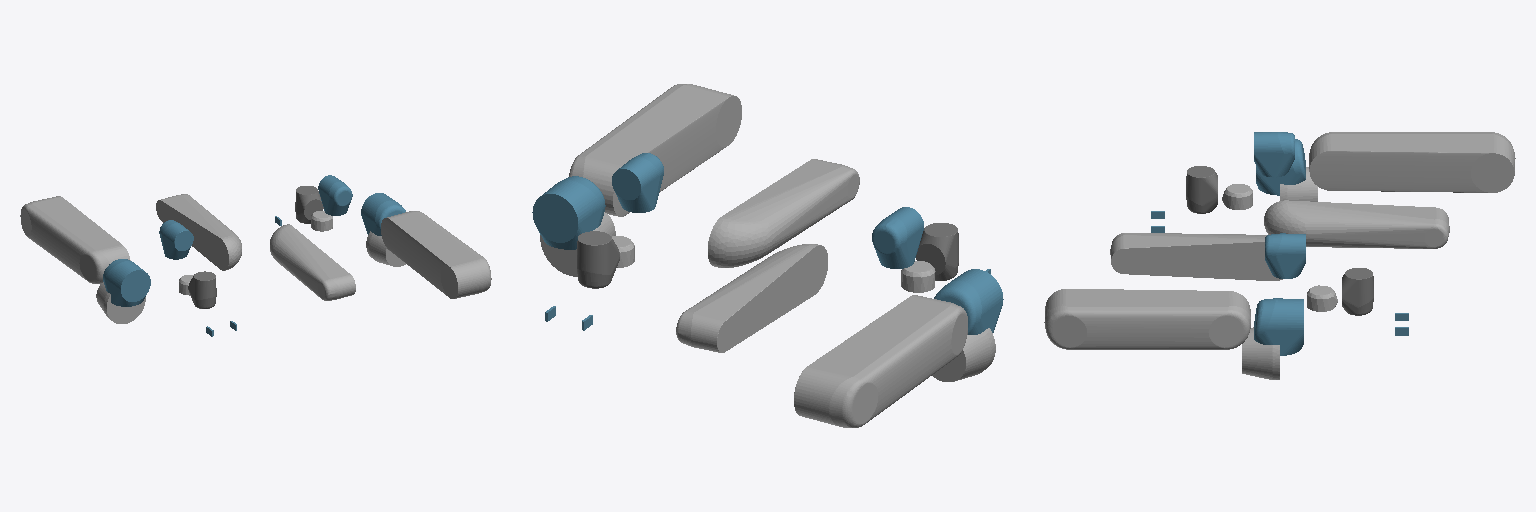
--- Render facts (derived) ---
3 views of the same robot in one strip: view 1: azimuth 30°, elevation 25°; view 2: azimuth 150°, elevation 25°; view 3: azimuth 270°, elevation 25° (orthographic).
Robot: dual_ur5_robot — 39 links, 38 joints (24 revolute, 14 fixed); root link base_fixture_link; default pose: every joint at zero.
Visible links, largest first — view 1: upper_arm_link_0, upper_arm_link_1, forearm_link_0, forearm_link_1, shoulder_link_1, shoulder_link_0, wrist_1_link_1, wrist_1_link_0, wrist_2_link_0, base_link_1, wrist_2_link_1, base_link_0; view 2: upper_arm_link_1, upper_arm_link_0, forearm_link_0, forearm_link_1, shoulder_link_0, shoulder_link_1, wrist_1_link_0, wrist_1_link_1, wrist_2_link_1, wrist_2_link_0, base_link_1, base_link_0 (+1 smaller); view 3: upper_arm_link_0, upper_arm_link_1, forearm_link_1, forearm_link_0, shoulder_link_0, wrist_1_link_0, wrist_1_link_1, wrist_2_link_0, wrist_2_link_1, base_link_0, shoulder_link_1, base_link_1 (+2 smaller).
Link boxes in pixels (box(x1,y1,x2,y2)): upper_arm_link_0: box(381, 211, 491, 298); upper_arm_link_1: box(20, 196, 130, 283); forearm_link_0: box(270, 224, 355, 300); forearm_link_1: box(156, 194, 241, 270); shoulder_link_1: box(103, 259, 150, 306); shoulder_link_0: box(361, 193, 405, 235); wrist_1_link_1: box(318, 175, 352, 215); wrist_1_link_0: box(159, 220, 193, 259); wrist_2_link_0: box(188, 271, 216, 308); base_link_1: box(96, 282, 145, 323); wrist_2_link_1: box(295, 186, 323, 223); base_link_0: box(366, 231, 405, 266); upper_arm_link_1: box(794, 295, 967, 427); upper_arm_link_0: box(569, 84, 741, 216); forearm_link_0: box(708, 159, 859, 267); forearm_link_1: box(676, 244, 827, 352); shoulder_link_0: box(532, 176, 605, 249); shoulder_link_1: box(934, 269, 1003, 334); wrist_1_link_0: box(872, 207, 923, 268); wrist_1_link_1: box(612, 153, 663, 212); wrist_2_link_1: box(577, 231, 619, 288); wrist_2_link_0: box(916, 223, 958, 280); base_link_1: box(932, 328, 995, 381); base_link_0: box(540, 212, 615, 276); upper_arm_link_0: box(1044, 289, 1250, 349); upper_arm_link_1: box(1309, 132, 1515, 192); forearm_link_1: box(1264, 200, 1449, 248); forearm_link_0: box(1110, 233, 1282, 280); shoulder_link_0: box(1254, 298, 1303, 355); wrist_1_link_0: box(1254, 132, 1294, 177); wrist_1_link_1: box(1265, 233, 1305, 278); wrist_2_link_0: box(1186, 166, 1217, 213); wrist_2_link_1: box(1342, 268, 1373, 315); base_link_0: box(1242, 327, 1279, 379); shoulder_link_1: box(1256, 139, 1305, 195); base_link_1: box(1280, 167, 1317, 201).
Bounding box of the posed robot: 1.15 × 1.24 × 0.3303 m (x, y, z).
Meshes: 12 distinct files referenced, 14 mesh visuals loaded (7 OBJ); not drawn: 18 (reference not matched to a file when rendering).

The robot description file, URDF, robot "dual_ur5_robot":
<?xml version="1.0" ?>
<!-- =================================================================================== -->
<!-- |    This document was autogenerated by xacro from ur_description/urdf/ur10e.xacro | -->
<!-- |    EDITING THIS FILE BY HAND IS NOT RECOMMENDED                                 | -->
<!-- =================================================================================== -->
<robot name="dual_ur5_robot">

  <!--################################################
  ########            shared base              #######
  ####################################################-->

  <link name="base_fixture_link"/>

  <!--################################################
  ########              arm 0                  #######
  ####################################################-->

  <link name="base_link_0">
    <visual>
      <geometry>
        <mesh filename="../ur5/meshes/visual/base.obj"/>
      </geometry>
      <material name="LightGrey">
        <color rgba="0.7 0.7 0.7 1.0"/>
      </material>
    </visual>
    <collision>
      <geometry>
        <mesh filename="../ur5/meshes/collision/base.stl"/>
      </geometry>
    </collision>
    <inertial>
      <mass value="4.0"/>
      <origin rpy="0 0 0" xyz="0.0 0.0 0.0"/>
      <inertia ixx="0.00443333156" ixy="0.0" ixz="0.0" iyy="0.00443333156" iyz="0.0" izz="0.0072"/>
    </inertial>
  </link>

  <joint name="shoulder_pan_joint_0" type="revolute">
    <parent link="base_link_0"/>
    <child link="shoulder_link_0"/>
    <origin rpy="0.0 0.0 0.0" xyz="0.0 0.0 0.089159"/>
    <axis xyz="0 0 1"/>
    <limit effort="150.0" lower="-3.14159265359" upper="3.14159265359" velocity="3.15"/>
    <dynamics damping="0.1" friction="0.0"/>
  </joint>
  <link name="shoulder_link_0">
    <visual>
      <geometry>
        <mesh filename="../ur5/meshes/visual/shoulder.obj"/>
      </geometry>
      <material name="UR-Blue">
        <color rgba="0.376 0.576 0.674 1.0"/>
      </material>
    </visual>
    <collision>
      <geometry>
        <mesh filename="../ur5/meshes/collision/shoulder.stl"/>
      </geometry>
    </collision>
    <inertial>
      <mass value="3.7"/>
      <origin rpy="0 0 0" xyz="0.0 0.0 0.0"/>
      <inertia ixx="0.010267495893" ixy="0.0" ixz="0.0" iyy="0.010267495893" iyz="0.0" izz="0.00666"/>
    </inertial>
  </link>
  <joint name="shoulder_lift_joint_0" type="revolute">
    <parent link="shoulder_link_0"/>
    <child link="upper_arm_link_0"/>
    <origin rpy="0.0 1.57079632679 0.0" xyz="0.0 0.13585 0.0"/>
    <axis xyz="0 1 0"/>
    <limit effort="150.0" lower="-3.14159265359" upper="3.14159265359" velocity="3.15"/>
    <dynamics damping="0.1" friction="0.0"/>
  </joint>
  <link name="upper_arm_link_0">
    <visual>
      <geometry>
        <mesh filename="../ur5/meshes/visual/upperarm.obj"/>
      </geometry>
      <material name="LightGrey">
        <color rgba="0.7 0.7 0.7 1.0"/>
      </material>
    </visual>
    <collision>
      <geometry>
        <mesh filename="../ur5/meshes/collision/upperarm.stl"/>
      </geometry>
    </collision>
    <inertial>
      <mass value="8.393"/>
      <origin rpy="0 0 0" xyz="0.0 0.0 0.28"/>
      <inertia ixx="0.22689067591" ixy="0.0" ixz="0.0" iyy="0.22689067591" iyz="0.0" izz="0.0151074"/>
    </inertial>
  </link>
  <joint name="elbow_joint_0" type="revolute">
    <parent link="upper_arm_link_0"/>
    <child link="forearm_link_0"/>
    <origin rpy="0.0 0.0 0.0" xyz="0.0 -0.1197 0.425"/>
    <axis xyz="0 1 0"/>
    <limit effort="150.0" lower="-3.14159265359" upper="3.14159265359" velocity="3.15"/>
    <dynamics damping="0.1" friction="0.0"/>
  </joint>
  <link name="forearm_link_0">
    <visual>
      <geometry>
        <mesh filename="../ur5/meshes/visual/forearm.obj"/>
      </geometry>
      <material name="LightGrey">
        <color rgba="0.7 0.7 0.7 1.0"/>
      </material>
    </visual>
    <collision>
      <geometry>
        <mesh filename="../ur5/meshes/collision/forearm.stl"/>
      </geometry>
    </collision>
    <inertial>
      <mass value="2.275"/>
      <origin rpy="0 0 0" xyz="0.0 0.0 0.25"/>
      <inertia ixx="0.049443313556" ixy="0.0" ixz="0.0" iyy="0.049443313556" iyz="0.0" izz="0.004095"/>
    </inertial>
  </link>
  <joint name="wrist_1_joint_0" type="revolute">
    <parent link="forearm_link_0"/>
    <child link="wrist_1_link_0"/>
    <origin rpy="0.0 1.57079632679 0.0" xyz="0.0 0.0 0.39225"/>
    <axis xyz="0 1 0"/>
    <limit effort="28.0" lower="-3.14159265359" upper="3.14159265359" velocity="3.2"/>
    <dynamics damping="0.1" friction="0.0"/>
  </joint>
  <link name="wrist_1_link_0">
    <visual>
      <geometry>
        <mesh filename="../ur5/meshes/visual/wrist1.obj"/>
      </geometry>
      <material name="UR-Blue">
        <color rgba="0.376 0.576 0.674 1.0"/>
      </material>
    </visual>
    <collision>
      <geometry>
        <mesh filename="../ur5/meshes/collision/wrist1.stl"/>
      </geometry>
    </collision>
    <inertial>
      <mass value="1.219"/>
      <origin rpy="0 0 0" xyz="0.0 0.0 0.0"/>
      <inertia ixx="0.111172755531" ixy="0.0" ixz="0.0" iyy="0.111172755531" iyz="0.0" izz="0.21942"/>
    </inertial>
  </link>
  <joint name="wrist_2_joint_0" type="revolute">
    <parent link="wrist_1_link_0"/>
    <child link="wrist_2_link_0"/>
    <origin rpy="0.0 0.0 0.0" xyz="0.0 0.093 0.0"/>
    <axis xyz="0 0 1"/>
    <limit effort="28.0" lower="-3.14159265359" upper="3.14159265359" velocity="3.2"/>
    <dynamics damping="0.1" friction="0.0"/>
  </joint>
  <link name="wrist_2_link_0">
    <visual>
      <geometry>
        <mesh filename="../ur5/meshes/visual/wrist2.obj"/>
      </geometry>
      <material name="DarkGray">
        <color rgba="0.5 0.5 0.5 1.0"/>
      </material>
    </visual>
    <collision>
      <geometry>
        <mesh filename="../ur5/meshes/collision/wrist2.stl"/>
      </geometry>
    </collision>
    <inertial>
      <mass value="1.219"/>
      <origin rpy="0 0 0" xyz="0.0 0.0 0.0"/>
      <inertia ixx="0.111172755531" ixy="0.0" ixz="0.0" iyy="0.111172755531" iyz="0.0" izz="0.21942"/>
    </inertial>
  </link>
  <joint name="wrist_3_joint_0" type="revolute">
    <parent link="wrist_2_link_0"/>
    <child link="wrist_3_link_0"/>
    <origin rpy="0.0 0.0 0.0" xyz="0.0 0.0 0.09465"/>
    <axis xyz="0 1 0"/>
    <limit effort="28.0" lower="-6.28318530718" upper="6.28318530718" velocity="3.2"/>
    <dynamics damping="0.1" friction="0.0"/>
  </joint>
  <link name="wrist_3_link_0">
    <visual>
      <geometry>
        <mesh filename="../ur5/meshes/visual/wrist3.obj"/>
      </geometry>
      <material name="LightGrey">
        <color rgba="0.7 0.7 0.7 1.0"/>
      </material>
    </visual>
    <collision>
      <geometry>
        <mesh filename="../ur5/meshes/collision/wrist3.stl"/>
      </geometry>
    </collision>
    <inertial>
      <mass value="0.1879"/>
      <origin rpy="0 0 0" xyz="0.0 0.0 0.0"/>
      <inertia ixx="0.0171364731454" ixy="0.0" ixz="0.0" iyy="0.0171364731454" iyz="0.0" izz="0.033822"/>
    </inertial>
  </link>
  <joint name="ee_fixed_joint_0" type="fixed">
    <parent link="wrist_3_link_0"/>
    <child link="ee_link_0"/>
    <origin rpy="0.0 0.0 1.57079632679" xyz="0.0 0.0823 0.0"/>
    <dynamics damping="0.1" friction="0.0"/>
  </joint>
  <link name="ee_link_0">
    <collision>
      <geometry>
        <box size="0.01 0.01 0.01"/>
      </geometry>
      <origin rpy="0 0 0" xyz="-0.01 0 0"/>
    </collision>
  </link>

  <!--################################################
  ########             gripper 0                 #####
  ####################################################-->

  <link name="robotiq_arg2f_base_link_0">
    <inertial>
      <origin rpy="0 0 0" xyz="8.625E-08 -4.6583E-06 0.03145"/>
      <mass value="0.22652"/>
      <inertia ixx="0.00020005" ixy="-4.2442E-10" ixz="-2.9069E-10" iyy="0.00017832" iyz="-3.4402E-08" izz="0.00013478"/>
    </inertial>
    <visual>
      <origin rpy="0 0 0" xyz="0 0 0"/>
      <geometry>
        <mesh filename="../robotiq_85/meshes/visual/robotiq_arg2f_85_base_link.dae" scale="0.001 0.001 0.001"/>
      </geometry>
      <material name="LightGrey">
        <color rgba="0.7 0.7 0.7 1.0"/>
      </material>
    </visual>
    <collision>
      <origin rpy="0 0 0" xyz="0 0 0"/>
      <geometry>
        <mesh filename="../robotiq_85/meshes/collision/robotiq_arg2f_base_link.stl"/>
      </geometry>
    </collision>
  </link>
  <joint name="finger_joint_0" type="revolute">
    <origin rpy="0 0 3.14159265359" xyz="0 -0.0306011 0.054904"/>
    <parent link="robotiq_arg2f_base_link_0"/>
    <child link="left_outer_knuckle_0"/>
    <axis xyz="1 0 0"/>
    <limit effort="1000" lower="0" upper="0.8" velocity="2.0"/>
    <dynamics damping="0.1" friction="0.0"/>
  </joint>
  <link name="left_outer_knuckle_0">
    <inertial>
        <origin xyz="-0.000200000000003065 0.0199435877845359 0.0292245259211331" rpy="0 0 0" />
        <mass value="0.00853198276973456" />
        <inertia ixx="2.89328108496468E-06" ixy="-1.57935047237397E-19" ixz="-1.93980378593255E-19" iyy="1.86719750325683E-06" iyz="-1.21858577871576E-06" izz="1.21905238907251E-06" />
        </inertial>
    <visual>
      <origin rpy="0 0 0" xyz="0 0 0"/>
      <geometry>
        <mesh filename="../robotiq_85/meshes/visual/robotiq_arg2f_85_outer_knuckle.dae" scale="0.001 0.001 0.001"/>
      </geometry>
      <material name="">
        <color rgba="1 1 0 1"/>
      </material>
    </visual>
    <collision>
      <origin rpy="0 0 0" xyz="0 0 0"/>
      <geometry>
        <mesh filename="../robotiq_85/meshes/collision/robotiq_arg2f_85_outer_knuckle.dae" scale="0.001 0.001 0.001"/>
      </geometry>
    </collision>
  </link>
  <joint name="left_outer_finger_joint_0" type="fixed">
    <origin rpy="0 0 0" xyz="0 0.0315 -0.0041"/>
    <parent link="left_outer_knuckle_0"/>
    <child link="left_outer_finger_0"/>
    <axis xyz="1 0 0"/>
    <dynamics damping="0.1" friction="0.0"/>
  </joint>
  <link name="left_outer_finger_0">
    <inertial>
        <origin xyz="0.00030115855001899 0.0373907951953854 -0.0208027427000385" rpy="0 0 0" />
        <mass value="0.022614240507152" />
        <inertia ixx="1.52518312458174E-05" ixy="9.76583423954399E-10" ixz="-5.43838577022588E-10" iyy="6.17694243867776E-06" iyz="6.78636130740228E-06" izz="1.16494917907219E-05" />
        </inertial>
    <visual>
      <origin rpy="0 0 0" xyz="0 0 0"/>
      <geometry>
        <mesh filename="../robotiq_85/meshes/visual/robotiq_arg2f_85_outer_finger.dae" scale="0.001 0.001 0.001"/>
      </geometry>
      <material name="LightGrey">
        <color rgba="0 1 1 1.0"/>
      </material>
    </visual>
    <collision>
      <origin rpy="0 0 0" xyz="0 0 0"/>
      <geometry>
        <mesh filename="../robotiq_85/meshes/collision/robotiq_arg2f_85_outer_finger.dae" scale="0.001 0.001 0.001"/>
      </geometry>
    </collision>
  </link>
  <joint name="left_inner_finger_joint_0" type="revolute">
    <origin rpy="0 0 0" xyz="0 0.0061 0.0471"/>
    <parent link="left_outer_finger_0"/>
    <child link="left_inner_finger_0"/>
    <axis xyz="1 0 0"/>
    <limit effort="1000" lower="-0.8757" upper="0" velocity="2.0"/>
    <mimic joint="finger_joint_0" multiplier="-1" offset="0"/>
    <dynamics damping="0.1" friction="0.0"/>
  </joint>
  <link name="left_inner_finger_0">
    <inertial>
        <origin xyz="0.000299999999999317 0.0160078233491243 -0.0136945669206257" rpy="0 0 0" />
        <mass value="0.0104003125914103" />
        <inertia ixx="2.71909453810972E-06" ixy="1.35402465472579E-21" ixz="-7.1817349065269E-22" iyy="7.69100314106116E-07" iyz="6.74715432769696E-07" izz="2.30315190420171E-06" />
        </inertial>
    <visual>
      <origin rpy="0 0 0" xyz="0 0 0"/>
      <geometry>
        <mesh filename="../robotiq_85/meshes/visual/robotiq_arg2f_85_inner_finger.dae" scale="0.001 0.001 0.001"/>
      </geometry>
      <material name="LightGrey">
        <color rgba="1 0 1 1.0"/>
      </material>
    </visual>
    <collision>
      <origin rpy="0 0 0" xyz="0 0 0"/>
      <geometry>
        <mesh filename="../robotiq_85/meshes/collision/robotiq_arg2f_85_inner_finger.dae" scale="0.001 0.001 0.001"/>
      </geometry>
    </collision>
  </link>
  <joint name="left_inner_finger_pad_joint_0" type="fixed">
    <origin rpy="0 0 0" xyz="0 -0.0220203446692936 0.03242"/>
    <parent link="left_inner_finger_0"/>
    <child link="left_inner_finger_pad_0"/>
    <axis xyz="0 0 1"/>
    <dynamics damping="0.1" friction="0.0"/>
  </joint>
  <link name="left_inner_finger_pad_0">
    <inertial>
      <mass value="1."/>
      <inertia ixx="1E-10" ixy="1E-10" ixz="1E-10" iyy="1E-10" iyz="1E-10" izz="1E-10"/>
    </inertial>
    <contact>
      <friction_anchor/>
      <stiffness value="30000.0"/>
      <damping value="1000.0"/>
      <spinning_friction value="0.1"/>
      <lateral_friction value="1.0"/>
    </contact>
    <visual>
      <origin rpy="0 0 0" xyz="0 0 0"/>
      <geometry>
        <box size="0.022 0.00635 0.0375"/>
      </geometry>
      <material name="UR-Blue">
        <color rgba="0.376 0.576 0.674 1.0"/>
      </material>
    </visual>
    <collision>
      <origin rpy="0 0 0" xyz="0 0 0"/>
      <geometry>
        <box size="0.022 0.00635 0.0375"/>
      </geometry>
      <material name="">
        <color rgba="0.9 0.0 0.0 1"/>
      </material>
    </collision>
  </link>
  <joint name="left_inner_knuckle_joint_0" type="revolute">
    <!-- <origin xyz="0 ${reflect * -0.0127} 0.06142" rpy="${pi / 2 + .725} 0 ${(reflect - 1) * pi / 2}" /> -->
    <origin rpy="0 0 3.14159265359" xyz="0 -0.0127 0.06142"/>
    <parent link="robotiq_arg2f_base_link_0"/>
    <child link="left_inner_knuckle_0"/>
    <axis xyz="1 0 0"/>
    <limit effort="1000" lower="0" upper="0.8757" velocity="2.0"/>
    <mimic joint="finger_joint_0" multiplier="1" offset="0"/>
    <dynamics damping="0.1" friction="0.0"/>
  </joint>
  <link name="left_inner_knuckle_0">
    <inertial>
        <origin xyz="0.000123011831763771 0.0507850843201817 0.00103968640075166" rpy="0 0 0" />
       <mass value="0.0271177346495152" />
        <inertia ixx="2.61910379223783E-05" ixy="-2.43616858946494E-07" ixz="-6.37789906117123E-09" iyy="2.8270243746167E-06" iyz="-5.37200748039765E-07" izz="2.83695868220296E-05" />
        </inertial>
    <visual>
      <origin rpy="0 0 0" xyz="0 0 0"/>
      <geometry>
        <mesh filename="../robotiq_85/meshes/visual/robotiq_arg2f_85_inner_knuckle.dae" scale="0.001 0.001 0.001"/>
      </geometry>
      <material name="LightGrey">
        <color rgba="0 0 1 1.0"/>
      </material>
    </visual>
    <collision>
      <origin rpy="0 0 0" xyz="0 0 0"/>
      <geometry>
        <mesh filename="../robotiq_85/meshes/collision/robotiq_arg2f_85_inner_knuckle.dae" scale="0.001 0.001 0.001"/>
      </geometry>
    </collision>
  </link>
  <joint name="right_outer_knuckle_joint_0" type="revolute">
    <origin rpy="0 0 0" xyz="0 0.0306011 0.054904"/>
    <parent link="robotiq_arg2f_base_link_0"/>
    <child link="right_outer_knuckle_0"/>
    <axis xyz="1 0 0"/>
    <limit effort="1000" lower="0" upper="0.81" velocity="2.0"/>
    <mimic joint="finger_joint_0" multiplier="1" offset="0"/>
    <dynamics damping="0.1" friction="0.0"/>
  </joint>
  <link name="right_outer_knuckle_0">
    <inertial>
        <origin xyz="-0.000200000000003065 0.0199435877845359 0.0292245259211331" rpy="0 0 0" />
        <mass value="0.00853198276973456" />
        <inertia ixx="2.89328108496468E-06" ixy="-1.57935047237397E-19" ixz="-1.93980378593255E-19" iyy="1.86719750325683E-06" iyz="-1.21858577871576E-06" izz="1.21905238907251E-06" />
        </inertial>
    <visual>
      <origin rpy="0 0 0" xyz="0 0 0"/>
      <geometry>
        <mesh filename="../robotiq_85/meshes/visual/robotiq_arg2f_85_outer_knuckle.dae" scale="0.001 0.001 0.001"/>
      </geometry>
      <material name="">
        <color rgba="0.792156862745098 0.819607843137255 0.933333333333333 1"/>
      </material>
    </visual>
    <collision>
      <origin rpy="0 0 0" xyz="0 0 0"/>
      <geometry>
        <mesh filename="../robotiq_85/meshes/collision/robotiq_arg2f_85_outer_knuckle.dae" scale="0.001 0.001 0.001"/>
      </geometry>
    </collision>
  </link>
  <joint name="right_outer_finger_joint_0" type="fixed">
    <origin rpy="0 0 0" xyz="0 0.0315 -0.0041"/>
    <parent link="right_outer_knuckle_0"/>
    <child link="right_outer_finger_0"/>
    <axis xyz="1 0 0"/>
    <dynamics damping="0.1" friction="0.0"/>
  </joint>
  <link name="right_outer_finger_0">
    <inertial>
        <origin xyz="0.00030115855001899 0.0373907951953854 -0.0208027427000385" rpy="0 0 0" />
        <mass value="0.022614240507152" />
        <inertia ixx="1.52518312458174E-05" ixy="9.76583423954399E-10" ixz="-5.43838577022588E-10" iyy="6.17694243867776E-06" iyz="6.78636130740228E-06" izz="1.16494917907219E-05" />
        </inertial>
    <visual>
      <origin rpy="0 0 0" xyz="0 0 0"/>
      <geometry>
        <mesh filename="../robotiq_85/meshes/visual/robotiq_arg2f_85_outer_finger.dae" scale="0.001 0.001 0.001"/>
      </geometry>
      <material name="LightGrey">
        <color rgba="0.7 0.7 0.7 1.0"/>
      </material>
    </visual>
    <collision>
      <origin rpy="0 0 0" xyz="0 0 0"/>
      <geometry>
        <mesh filename="../robotiq_85/meshes/collision/robotiq_arg2f_85_outer_finger.dae" scale="0.001 0.001 0.001"/>
      </geometry>
    </collision>
  </link>
  <joint name="right_inner_finger_joint_0" type="revolute">
    <origin rpy="0 0 0" xyz="0 0.0061 0.0471"/>
    <parent link="right_outer_finger_0"/>
    <child link="right_inner_finger_0"/>
    <axis xyz="1 0 0"/>
    <limit effort="1000" lower="-0.8757" upper="0" velocity="2.0"/>
    <mimic joint="finger_joint_0" multiplier="-1" offset="0"/>
    <dynamics damping="0.1" friction="0.0"/>
  </joint>
  <link name="right_inner_finger_0">
    <inertial>
        <origin xyz="0.000299999999999317 0.0160078233491243 -0.0136945669206257" rpy="0 0 0" />
        <mass value="0.0104003125914103" />
        <inertia ixx="2.71909453810972E-06" ixy="1.35402465472579E-21" ixz="-7.1817349065269E-22" iyy="7.69100314106116E-07" iyz="6.74715432769696E-07" izz="2.30315190420171E-06" />
        </inertial>
    <visual>
      <origin rpy="0 0 0" xyz="0 0 0"/>
      <geometry>
        <mesh filename="../robotiq_85/meshes/visual/robotiq_arg2f_85_inner_finger.dae" scale="0.001 0.001 0.001"/>
      </geometry>
      <material name="">
        <color rgba="0.1 0.1 0.1 1"/>
      </material>
    </visual>
    <collision>
      <origin rpy="0 0 0" xyz="0 0 0"/>
      <geometry>
        <mesh filename="../robotiq_85/meshes/collision/robotiq_arg2f_85_inner_finger.dae" scale="0.001 0.001 0.001"/>
      </geometry>
    </collision>
  </link>
  <joint name="right_inner_finger_pad_joint_0" type="fixed">
    <origin rpy="0 0 0" xyz="0 -0.0220203446692936 0.03242"/>
    <parent link="right_inner_finger_0"/>
    <child link="right_inner_finger_pad_0"/>
    <axis xyz="0 0 1"/>
    <dynamics damping="0.1" friction="0.0"/>
  </joint>
  <link name="right_inner_finger_pad_0">
    <inertial>
      <mass value="1"/>
      <inertia ixx="1E-10" ixy="1E-10" ixz="1E-10" iyy="1E-10" iyz="1E-10" izz="1E-10"/>
    </inertial>
    <contact>
      <friction_anchor/>
      <stiffness value="30000.0"/>
      <damping value="1000.0"/>
      <spinning_friction value="0.1"/>
      <lateral_friction value="1.0"/>
    </contact>
    <visual>
      <origin rpy="0 0 0" xyz="0 0 0"/>
      <geometry>
        <box size="0.022 0.00635 0.0375"/>
      </geometry>
      <material name="UR-Blue">
        <color rgba="0.376 0.576 0.674 1.0"/>
      </material>
    </visual>
    <collision>
      <origin rpy="0 0 0" xyz="0 0 0"/>
      <geometry>
        <box size="0.022 0.00635 0.0375"/>
      </geometry>
      <material name="LightGrey">
        <color rgba="0.7 0.7 0.7 1.0"/>
      </material>
    </collision>
  </link>
  <joint name="right_inner_knuckle_joint_0" type="revolute">
    <!-- <origin xyz="0 ${reflect * -0.0127} 0.06142" rpy="${pi / 2 + .725} 0 ${(reflect - 1) * pi / 2}" /> -->
    <origin rpy="0 0 0.0" xyz="0 0.0127 0.06142"/>
    <parent link="robotiq_arg2f_base_link_0"/>
    <child link="right_inner_knuckle_0"/>
    <axis xyz="1 0 0"/>
    <limit effort="1000" lower="0" upper="0.8757" velocity="2.0"/>
    <mimic joint="finger_joint_0" multiplier="1" offset="0"/>
    <dynamics damping="0.1" friction="0.0"/>
  </joint>
  <link name="right_inner_knuckle_0">
    <inertial>
        <origin xyz="0.000123011831763771 0.0507850843201817 0.00103968640075166" rpy="0 0 0" />
       <mass value="0.0271177346495152" />
        <inertia ixx="2.61910379223783E-05" ixy="-2.43616858946494E-07" ixz="-6.37789906117123E-09" iyy="2.8270243746167E-06" iyz="-5.37200748039765E-07" izz="2.83695868220296E-05" />
        </inertial>
    <visual>
      <origin rpy="0 0 0" xyz="0 0 0"/>
      <geometry>
        <mesh filename="../robotiq_85/meshes/visual/robotiq_arg2f_85_inner_knuckle.dae" scale="0.001 0.001 0.001"/>
      </geometry>
      <material name="LightGrey">
        <color rgba="0.7 0.7 0.7 1.0"/>
      </material>
    </visual>
    <collision>
      <origin rpy="0 0 0" xyz="0 0 0"/>
      <geometry>
        <mesh filename="../robotiq_85/meshes/collision/robotiq_arg2f_85_inner_knuckle.dae" scale="0.001 0.001 0.001"/>
      </geometry>
    </collision>
  </link>

  <!--################################################
  ########          arm0 to gripper0             #####
  ####################################################-->

  <!-- connect gripper to arm -->
  <joint name="robotiq_85_base_joint_0" type="fixed">
    <parent link="ee_link_0"/>
    <child link="robotiq_arg2f_base_link_0"/>
    <origin rpy="0 1.57079632679 0" xyz="0 0 0"/>
  </joint>

  <!--################################################
  ########              arm 1                  #######
  ####################################################-->

  <link name="base_link_1">
    <visual>
      <geometry>
        <mesh filename="../ur5/meshes/visual/base.obj"/>
      </geometry>
      <material name="LightGrey">
        <color rgba="0.7 0.7 0.7 1.0"/>
      </material>
    </visual>
    <collision>
      <geometry>
        <mesh filename="../ur5/meshes/collision/base.stl"/>
      </geometry>
    </collision>
    <inertial>
      <mass value="4.0"/>
      <origin rpy="0 0 0" xyz="0.0 0.0 0.0"/>
      <inertia ixx="0.00443333156" ixy="0.0" ixz="0.0" iyy="0.00443333156" iyz="0.0" izz="0.0072"/>
    </inertial>
  </link>

  <joint name="shoulder_pan_joint_1" type="revolute">
    <parent link="base_link_1"/>
    <child link="shoulder_link_1"/>
    <origin rpy="0.0 0.0 0.0" xyz="0.0 0.0 0.089159"/>
    <axis xyz="0 0 1"/>
    <limit effort="150.0" lower="-3.14159265359" upper="3.14159265359" velocity="3.15"/>
    <dynamics damping="0.1" friction="0.0"/>
  </joint>
  <link name="shoulder_link_1">
    <visual>
      <geometry>
        <mesh filename="../ur5/meshes/visual/shoulder.obj"/>
      </geometry>
      <material name="UR-Blue">
        <color rgba="0.376 0.576 0.674 1.0"/>
      </material>
    </visual>
    <collision>
      <geometry>
        <mesh filename="../ur5/meshes/collision/shoulder.stl"/>
      </geometry>
    </collision>
    <inertial>
      <mass value="3.7"/>
      <origin rpy="0 0 0" xyz="0.0 0.0 0.0"/>
      <inertia ixx="0.010267495893" ixy="0.0" ixz="0.0" iyy="0.010267495893" iyz="0.0" izz="0.00666"/>
    </inertial>
  </link>
  <joint name="shoulder_lift_joint_1" type="revolute">
    <parent link="shoulder_link_1"/>
    <child link="upper_arm_link_1"/>
    <origin rpy="0.0 1.57079632679 0.0" xyz="0.0 0.13585 0.0"/>
    <axis xyz="0 1 0"/>
    <limit effort="150.0" lower="-3.14159265359" upper="3.14159265359" velocity="3.15"/>
    <dynamics damping="0.1" friction="0.0"/>
  </joint>
  <link name="upper_arm_link_1">
    <visual>
      <geometry>
        <mesh filename="../ur5/meshes/visual/upperarm.obj"/>
      </geometry>
      <material name="LightGrey">
        <color rgba="0.7 0.7 0.7 1.0"/>
      </material>
    </visual>
    <collision>
      <geometry>
        <mesh filename="../ur5/meshes/collision/upperarm.stl"/>
      </geometry>
    </collision>
    <inertial>
      <mass value="8.393"/>
      <origin rpy="0 0 0" xyz="0.0 0.0 0.28"/>
      <inertia ixx="0.22689067591" ixy="0.0" ixz="0.0" iyy="0.22689067591" iyz="0.0" izz="0.0151074"/>
    </inertial>
  </link>
  <joint name="elbow_joint_1" type="revolute">
    <parent link="upper_arm_link_1"/>
    <child link="forearm_link_1"/>
    <origin rpy="0.0 0.0 0.0" xyz="0.0 -0.1197 0.425"/>
    <axis xyz="0 1 0"/>
    <limit effort="150.0" lower="-3.14159265359" upper="3.14159265359" velocity="3.15"/>
    <dynamics damping="0.1" friction="0.0"/>
  </joint>
  <link name="forearm_link_1">
    <visual>
      <geometry>
        <mesh filename="../ur5/meshes/visual/forearm.obj"/>
      </geometry>
      <material name="LightGrey">
        <color rgba="0.7 0.7 0.7 1.0"/>
      </material>
    </visual>
    <collision>
      <geometry>
        <mesh filename="../ur5/meshes/collision/forearm.stl"/>
      </geometry>
    </collision>
    <inertial>
      <mass value="2.275"/>
      <origin rpy="0 0 0" xyz="0.0 0.0 0.25"/>
      <inertia ixx="0.049443313556" ixy="0.0" ixz="0.0" iyy="0.049443313556" iyz="0.0" izz="0.004095"/>
    </inertial>
  </link>
  <joint name="wrist_1_joint_1" type="revolute">
    <parent link="forearm_link_1"/>
    <child link="wrist_1_link_1"/>
    <origin rpy="0.0 1.57079632679 0.0" xyz="0.0 0.0 0.39225"/>
    <axis xyz="0 1 0"/>
    <limit effort="28.0" lower="-3.14159265359" upper="3.14159265359" velocity="3.2"/>
    <dynamics damping="0.1" friction="0.0"/>
  </joint>
  <link name="wrist_1_link_1">
    <visual>
      <geometry>
        <mesh filename="../ur5/meshes/visual/wrist1.obj"/>
      </geometry>
      <material name="UR-Blue">
        <color rgba="0.376 0.576 0.674 1.0"/>
      </material>
    </visual>
    <collision>
      <geometry>
        <mesh filename="../ur5/meshes/collision/wrist1.stl"/>
      </geometry>
    </collision>
    <inertial>
      <mass value="1.219"/>
      <origin rpy="0 0 0" xyz="0.0 0.0 0.0"/>
      <inertia ixx="0.111172755531" ixy="0.0" ixz="0.0" iyy="0.111172755531" iyz="0.0" izz="0.21942"/>
    </inertial>
  </link>
  <joint name="wrist_2_joint_1" type="revolute">
    <parent link="wrist_1_link_1"/>
    <child link="wrist_2_link_1"/>
    <origin rpy="0.0 0.0 0.0" xyz="0.0 0.093 0.0"/>
    <axis xyz="0 0 1"/>
    <limit effort="28.0" lower="-3.14159265359" upper="3.14159265359" velocity="3.2"/>
    <dynamics damping="0.1" friction="0.0"/>
  </joint>
  <link name="wrist_2_link_1">
    <visual>
      <geometry>
        <mesh filename="../ur5/meshes/visual/wrist2.obj"/>
      </geometry>
      <material name="DarkGray">
        <color rgba="0.5 0.5 0.5 1.0"/>
      </material>
    </visual>
    <collision>
      <geometry>
        <mesh filename="../ur5/meshes/collision/wrist2.stl"/>
      </geometry>
    </collision>
    <inertial>
      <mass value="1.219"/>
      <origin rpy="0 0 0" xyz="0.0 0.0 0.0"/>
      <inertia ixx="0.111172755531" ixy="0.0" ixz="0.0" iyy="0.111172755531" iyz="0.0" izz="0.21942"/>
    </inertial>
  </link>
  <joint name="wrist_3_joint_1" type="revolute">
    <parent link="wrist_2_link_1"/>
    <child link="wrist_3_link_1"/>
    <origin rpy="0.0 0.0 0.0" xyz="0.0 0.0 0.09465"/>
    <axis xyz="0 1 0"/>
    <limit effort="28.0" lower="-6.28318530718" upper="6.28318530718" velocity="3.2"/>
    <dynamics damping="0.1" friction="0.0"/>
  </joint>
  <link name="wrist_3_link_1">
    <visual>
      <geometry>
        <mesh filename="../ur5/meshes/visual/wrist3.obj"/>
      </geometry>
      <material name="LightGrey">
        <color rgba="0.7 0.7 0.7 1.0"/>
      </material>
    </visual>
    <collision>
      <geometry>
        <mesh filename="../ur5/meshes/collision/wrist3.stl"/>
      </geometry>
    </collision>
    <inertial>
      <mass value="0.1879"/>
      <origin rpy="0 0 0" xyz="0.0 0.0 0.0"/>
      <inertia ixx="0.0171364731454" ixy="0.0" ixz="0.0" iyy="0.0171364731454" iyz="0.0" izz="0.033822"/>
    </inertial>
  </link>
  <joint name="ee_fixed_joint_1" type="fixed">
    <parent link="wrist_3_link_1"/>
    <child link="ee_link_1"/>
    <origin rpy="0.0 0.0 1.57079632679" xyz="0.0 0.0823 0.0"/>
    <dynamics damping="0.1" friction="0.0"/>
  </joint>
  <link name="ee_link_1">
    <collision>
      <geometry>
        <box size="0.01 0.01 0.01"/>
      </geometry>
      <origin rpy="0 0 0" xyz="-0.01 0 0"/>
    </collision>
  </link>


  <!--################################################
  ########             gripper 1                 #####
  ####################################################-->

  <link name="robotiq_arg2f_base_link_1">
    <inertial>
      <origin rpy="0 0 0" xyz="8.625E-08 -4.6583E-06 0.03145"/>
      <mass value="0.22652"/>
      <inertia ixx="0.00020005" ixy="-4.2442E-10" ixz="-2.9069E-10" iyy="0.00017832" iyz="-3.4402E-08" izz="0.00013478"/>
    </inertial>
    <visual>
      <origin rpy="0 0 0" xyz="0 0 0"/>
      <geometry>
        <mesh filename="../robotiq_85/meshes/visual/robotiq_arg2f_85_base_link.dae" scale="0.001 0.001 0.001"/>
      </geometry>
      <material name="LightGrey">
        <color rgba="0.7 0.7 0.7 1.0"/>
      </material>
    </visual>
    <collision>
      <origin rpy="0 0 0" xyz="0 0 0"/>
      <geometry>
        <mesh filename="../robotiq_85/meshes/collision/robotiq_arg2f_base_link.stl"/>
      </geometry>
    </collision>
  </link>
  <joint name="finger_joint_1" type="revolute">
    <origin rpy="0 0 3.14159265359" xyz="0 -0.0306011 0.054904"/>
    <parent link="robotiq_arg2f_base_link_1"/>
    <child link="left_outer_knuckle_1"/>
    <axis xyz="1 0 0"/>
    <limit effort="1000" lower="0" upper="0.8" velocity="2.0"/>
    <dynamics damping="0.1" friction="0.0"/>
  </joint>
  <link name="left_outer_knuckle_1">
    <inertial>
        <origin xyz="-0.000200000000003065 0.0199435877845359 0.0292245259211331" rpy="0 0 0" />
        <mass value="0.00853198276973456" />
        <inertia ixx="2.89328108496468E-06" ixy="-1.57935047237397E-19" ixz="-1.93980378593255E-19" iyy="1.86719750325683E-06" iyz="-1.21858577871576E-06" izz="1.21905238907251E-06" />
        </inertial>
    <visual>
      <origin rpy="0 0 0" xyz="0 0 0"/>
      <geometry>
        <mesh filename="../robotiq_85/meshes/visual/robotiq_arg2f_85_outer_knuckle.dae" scale="0.001 0.001 0.001"/>
      </geometry>
      <material name="">
        <color rgba="1 1 0 1"/>
      </material>
    </visual>
    <collision>
      <origin rpy="0 0 0" xyz="0 0 0"/>
      <geometry>
        <mesh filename="../robotiq_85/meshes/collision/robotiq_arg2f_85_outer_knuckle.dae" scale="0.001 0.001 0.001"/>
      </geometry>
    </collision>
  </link>
  <joint name="left_outer_finger_joint_1" type="fixed">
    <origin rpy="0 0 0" xyz="0 0.0315 -0.0041"/>
    <parent link="left_outer_knuckle_1"/>
    <child link="left_outer_finger_1"/>
    <axis xyz="1 0 0"/>
    <dynamics damping="0.1" friction="0.0"/>
  </joint>
  <link name="left_outer_finger_1">
    <inertial>
        <origin xyz="0.00030115855001899 0.0373907951953854 -0.0208027427000385" rpy="0 0 0" />
        <mass value="0.022614240507152" />
        <inertia ixx="1.52518312458174E-05" ixy="9.76583423954399E-10" ixz="-5.43838577022588E-10" iyy="6.17694243867776E-06" iyz="6.78636130740228E-06" izz="1.16494917907219E-05" />
        </inertial>
    <visual>
      <origin rpy="0 0 0" xyz="0 0 0"/>
      <geometry>
        <mesh filename="../robotiq_85/meshes/visual/robotiq_arg2f_85_outer_finger.dae" scale="0.001 0.001 0.001"/>
      </geometry>
      <material name="LightGrey">
        <color rgba="0 1 1 1.0"/>
      </material>
    </visual>
    <collision>
      <origin rpy="0 0 0" xyz="0 0 0"/>
      <geometry>
        <mesh filename="../robotiq_85/meshes/collision/robotiq_arg2f_85_outer_finger.dae" scale="0.001 0.001 0.001"/>
      </geometry>
    </collision>
  </link>
  <joint name="left_inner_finger_joint_1" type="revolute">
    <origin rpy="0 0 0" xyz="0 0.0061 0.0471"/>
    <parent link="left_outer_finger_1"/>
    <child link="left_inner_finger_1"/>
    <axis xyz="1 0 0"/>
    <limit effort="1000" lower="-0.8757" upper="0" velocity="2.0"/>
    <mimic joint="finger_joint_1" multiplier="-1" offset="0"/>
    <dynamics damping="0.1" friction="0.0"/>
  </joint>
  <link name="left_inner_finger_1">
    <inertial>
        <origin xyz="0.000299999999999317 0.0160078233491243 -0.0136945669206257" rpy="0 0 0" />
        <mass value="0.0104003125914103" />
        <inertia ixx="2.71909453810972E-06" ixy="1.35402465472579E-21" ixz="-7.1817349065269E-22" iyy="7.69100314106116E-07" iyz="6.74715432769696E-07" izz="2.30315190420171E-06" />
        </inertial>
    <visual>
      <origin rpy="0 0 0" xyz="0 0 0"/>
      <geometry>
        <mesh filename="../robotiq_85/meshes/visual/robotiq_arg2f_85_inner_finger.dae" scale="0.001 0.001 0.001"/>
      </geometry>
      <material name="LightGrey">
        <color rgba="1 0 1 1.0"/>
      </material>
    </visual>
    <collision>
      <origin rpy="0 0 0" xyz="0 0 0"/>
      <geometry>
        <mesh filename="../robotiq_85/meshes/collision/robotiq_arg2f_85_inner_finger.dae" scale="0.001 0.001 0.001"/>
      </geometry>
    </collision>
  </link>
  <joint name="left_inner_finger_pad_joint_1" type="fixed">
    <origin rpy="0 0 0" xyz="0 -0.0220203446692936 0.03242"/>
    <parent link="left_inner_finger_1"/>
    <child link="left_inner_finger_pad_1"/>
    <axis xyz="0 0 1"/>
    <dynamics damping="0.1" friction="0.0"/>
  </joint>
  <link name="left_inner_finger_pad_1">
    <inertial>
      <mass value="1."/>
      <inertia ixx="1E-10" ixy="1E-10" ixz="1E-10" iyy="1E-10" iyz="1E-10" izz="1E-10"/>
    </inertial>
    <contact>
      <friction_anchor/>
      <stiffness value="30000.0"/>
      <damping value="1000.0"/>
      <spinning_friction value="0.1"/>
      <lateral_friction value="1.0"/>
    </contact>
    <visual>
      <origin rpy="0 0 0" xyz="0 0 0"/>
      <geometry>
        <box size="0.022 0.00635 0.0375"/>
      </geometry>
      <material name="UR-Blue">
        <color rgba="0.376 0.576 0.674 1.0"/>
      </material>
    </visual>
    <collision>
      <origin rpy="0 0 0" xyz="0 0 0"/>
      <geometry>
        <box size="0.022 0.00635 0.0375"/>
      </geometry>
      <material name="">
        <color rgba="0.9 0.0 0.0 1"/>
      </material>
    </collision>
  </link>
  <joint name="left_inner_knuckle_joint_1" type="revolute">
    <!-- <origin xyz="0 ${reflect * -0.0127} 0.06142" rpy="${pi / 2 + .725} 0 ${(reflect - 1) * pi / 2}" /> -->
    <origin rpy="0 0 3.14159265359" xyz="0 -0.0127 0.06142"/>
    <parent link="robotiq_arg2f_base_link_1"/>
    <child link="left_inner_knuckle_1"/>
    <axis xyz="1 0 0"/>
    <limit effort="1000" lower="0" upper="0.8757" velocity="2.0"/>
    <mimic joint="finger_joint_1" multiplier="1" offset="0"/>
    <dynamics damping="0.1" friction="0.0"/>
  </joint>
  <link name="left_inner_knuckle_1">
    <inertial>
        <origin xyz="0.000123011831763771 0.0507850843201817 0.00103968640075166" rpy="0 0 0" />
       <mass value="0.0271177346495152" />
        <inertia ixx="2.61910379223783E-05" ixy="-2.43616858946494E-07" ixz="-6.37789906117123E-09" iyy="2.8270243746167E-06" iyz="-5.37200748039765E-07" izz="2.83695868220296E-05" />
        </inertial>
    <visual>
      <origin rpy="0 0 0" xyz="0 0 0"/>
      <geometry>
        <mesh filename="../robotiq_85/meshes/visual/robotiq_arg2f_85_inner_knuckle.dae" scale="0.001 0.001 0.001"/>
      </geometry>
      <material name="LightGrey">
        <color rgba="0 0 1 1.0"/>
      </material>
    </visual>
    <collision>
      <origin rpy="0 0 0" xyz="0 0 0"/>
      <geometry>
        <mesh filename="../robotiq_85/meshes/collision/robotiq_arg2f_85_inner_knuckle.dae" scale="0.001 0.001 0.001"/>
      </geometry>
    </collision>
  </link>
  <joint name="right_outer_knuckle_joint_1" type="revolute">
    <origin rpy="0 0 0" xyz="0 0.0306011 0.054904"/>
    <parent link="robotiq_arg2f_base_link_1"/>
    <child link="right_outer_knuckle_1"/>
    <axis xyz="1 0 0"/>
    <limit effort="1000" lower="0" upper="0.81" velocity="2.0"/>
    <mimic joint="finger_joint_1" multiplier="1" offset="0"/>
    <dynamics damping="0.1" friction="0.0"/>
  </joint>
  <link name="right_outer_knuckle_1">
    <inertial>
        <origin xyz="-0.000200000000003065 0.0199435877845359 0.0292245259211331" rpy="0 0 0" />
        <mass value="0.00853198276973456" />
        <inertia ixx="2.89328108496468E-06" ixy="-1.57935047237397E-19" ixz="-1.93980378593255E-19" iyy="1.86719750325683E-06" iyz="-1.21858577871576E-06" izz="1.21905238907251E-06" />
        </inertial>
    <visual>
      <origin rpy="0 0 0" xyz="0 0 0"/>
      <geometry>
        <mesh filename="../robotiq_85/meshes/visual/robotiq_arg2f_85_outer_knuckle.dae" scale="0.001 0.001 0.001"/>
      </geometry>
      <material name="">
        <color rgba="0.792156862745098 0.819607843137255 0.933333333333333 1"/>
      </material>
    </visual>
    <collision>
      <origin rpy="0 0 0" xyz="0 0 0"/>
      <geometry>
        <mesh filename="../robotiq_85/meshes/collision/robotiq_arg2f_85_outer_knuckle.dae" scale="0.001 0.001 0.001"/>
      </geometry>
    </collision>
  </link>
  <joint name="right_outer_finger_joint_1" type="fixed">
    <origin rpy="0 0 0" xyz="0 0.0315 -0.0041"/>
    <parent link="right_outer_knuckle_1"/>
    <child link="right_outer_finger_1"/>
    <axis xyz="1 0 0"/>
    <dynamics damping="0.1" friction="0.0"/>
  </joint>
  <link name="right_outer_finger_1">
    <inertial>
        <origin xyz="0.00030115855001899 0.0373907951953854 -0.0208027427000385" rpy="0 0 0" />
        <mass value="0.022614240507152" />
        <inertia ixx="1.52518312458174E-05" ixy="9.76583423954399E-10" ixz="-5.43838577022588E-10" iyy="6.17694243867776E-06" iyz="6.78636130740228E-06" izz="1.16494917907219E-05" />
        </inertial>
    <visual>
      <origin rpy="0 0 0" xyz="0 0 0"/>
      <geometry>
        <mesh filename="../robotiq_85/meshes/visual/robotiq_arg2f_85_outer_finger.dae" scale="0.001 0.001 0.001"/>
      </geometry>
      <material name="LightGrey">
        <color rgba="0.7 0.7 0.7 1.0"/>
      </material>
    </visual>
    <collision>
      <origin rpy="0 0 0" xyz="0 0 0"/>
      <geometry>
        <mesh filename="../robotiq_85/meshes/collision/robotiq_arg2f_85_outer_finger.dae" scale="0.001 0.001 0.001"/>
      </geometry>
    </collision>
  </link>
  <joint name="right_inner_finger_joint_1" type="revolute">
    <origin rpy="0 0 0" xyz="0 0.0061 0.0471"/>
    <parent link="right_outer_finger_1"/>
    <child link="right_inner_finger_1"/>
    <axis xyz="1 0 0"/>
    <limit effort="1000" lower="-0.8757" upper="0" velocity="2.0"/>
    <mimic joint="finger_joint_1" multiplier="-1" offset="0"/>
    <dynamics damping="0.1" friction="0.0"/>
  </joint>
  <link name="right_inner_finger_1">
    <inertial>
        <origin xyz="0.000299999999999317 0.0160078233491243 -0.0136945669206257" rpy="0 0 0" />
        <mass value="0.0104003125914103" />
        <inertia ixx="2.71909453810972E-06" ixy="1.35402465472579E-21" ixz="-7.1817349065269E-22" iyy="7.69100314106116E-07" iyz="6.74715432769696E-07" izz="2.30315190420171E-06" />
        </inertial>
    <visual>
      <origin rpy="0 0 0" xyz="0 0 0"/>
      <geometry>
        <mesh filename="../robotiq_85/meshes/visual/robotiq_arg2f_85_inner_finger.dae" scale="0.001 0.001 0.001"/>
      </geometry>
      <material name="">
        <color rgba="0.1 0.1 0.1 1"/>
      </material>
    </visual>
    <collision>
      <origin rpy="0 0 0" xyz="0 0 0"/>
      <geometry>
        <mesh filename="../robotiq_85/meshes/collision/robotiq_arg2f_85_inner_finger.dae" scale="0.001 0.001 0.001"/>
      </geometry>
    </collision>
  </link>
  <joint name="right_inner_finger_pad_joint_1" type="fixed">
    <origin rpy="0 0 0" xyz="0 -0.0220203446692936 0.03242"/>
    <parent link="right_inner_finger_1"/>
    <child link="right_inner_finger_pad_1"/>
    <axis xyz="0 0 1"/>
    <dynamics damping="0.1" friction="0.0"/>
  </joint>
  <link name="right_inner_finger_pad_1">
    <inertial>
      <mass value="1"/>
      <inertia ixx="1E-10" ixy="1E-10" ixz="1E-10" iyy="1E-10" iyz="1E-10" izz="1E-10"/>
    </inertial>
    <contact>
      <friction_anchor/>
      <stiffness value="30000.0"/>
      <damping value="1000.0"/>
      <spinning_friction value="0.1"/>
      <lateral_friction value="1.0"/>
    </contact>
    <visual>
      <origin rpy="0 0 0" xyz="0 0 0"/>
      <geometry>
        <box size="0.022 0.00635 0.0375"/>
      </geometry>
      <material name="UR-Blue">
        <color rgba="0.376 0.576 0.674 1.0"/>
      </material>
    </visual>
    <collision>
      <origin rpy="0 0 0" xyz="0 0 0"/>
      <geometry>
        <box size="0.022 0.00635 0.0375"/>
      </geometry>
      <material name="LightGrey">
        <color rgba="0.7 0.7 0.7 1.0"/>
      </material>
    </collision>
  </link>
  <joint name="right_inner_knuckle_joint_1" type="revolute">
    <!-- <origin xyz="0 ${reflect * -0.0127} 0.06142" rpy="${pi / 2 + .725} 0 ${(reflect - 1) * pi / 2}" /> -->
    <origin rpy="0 0 0.0" xyz="0 0.0127 0.06142"/>
    <parent link="robotiq_arg2f_base_link_1"/>
    <child link="right_inner_knuckle_1"/>
    <axis xyz="1 0 0"/>
    <limit effort="1000" lower="0" upper="0.8757" velocity="2.0"/>
    <mimic joint="finger_joint_1" multiplier="1" offset="0"/>
    <dynamics damping="0.1" friction="0.0"/>
  </joint>
  <link name="right_inner_knuckle_1">
    <inertial>
        <origin xyz="0.000123011831763771 0.0507850843201817 0.00103968640075166" rpy="0 0 0" />
       <mass value="0.0271177346495152" />
        <inertia ixx="2.61910379223783E-05" ixy="-2.43616858946494E-07" ixz="-6.37789906117123E-09" iyy="2.8270243746167E-06" iyz="-5.37200748039765E-07" izz="2.83695868220296E-05" />
        </inertial>
    <visual>
      <origin rpy="0 0 0" xyz="0 0 0"/>
      <geometry>
        <mesh filename="../robotiq_85/meshes/visual/robotiq_arg2f_85_inner_knuckle.dae" scale="0.001 0.001 0.001"/>
      </geometry>
      <material name="LightGrey">
        <color rgba="0.7 0.7 0.7 1.0"/>
      </material>
    </visual>
    <collision>
      <origin rpy="0 0 0" xyz="0 0 0"/>
      <geometry>
        <mesh filename="../robotiq_85/meshes/collision/robotiq_arg2f_85_inner_knuckle.dae" scale="0.001 0.001 0.001"/>
      </geometry>
    </collision>
  </link>

  <!--################################################
  ########          arm1 to gripper1             #####
  ####################################################-->

  <!-- connect gripper to arm -->
  <joint name="robotiq_85_base_joint_1" type="fixed">
    <parent link="ee_link_1"/>
    <child link="robotiq_arg2f_base_link_1"/>
    <origin rpy="0 1.57079632679 0" xyz="0 0 0"/>
  </joint>

  <!--################################################
  ########         shared base joints          #######
  ####################################################-->

  <joint name="base_link_joint_0" type="fixed">
    <parent link="base_fixture_link"/>
    <child link="base_link_0"/>
    <origin rpy="0 0 3.1415" xyz="0.50 0.0 0.1"/>
  </joint>


  <!-- joints: main serial chain -->
  <joint name="base_link_joint_1" type="fixed">
    <parent link="base_fixture_link"/>
    <child link="base_link_1"/>
    <origin rpy="0 0 0.0" xyz="-0.50 0.0 0.1"/>
  </joint>

</robot>
